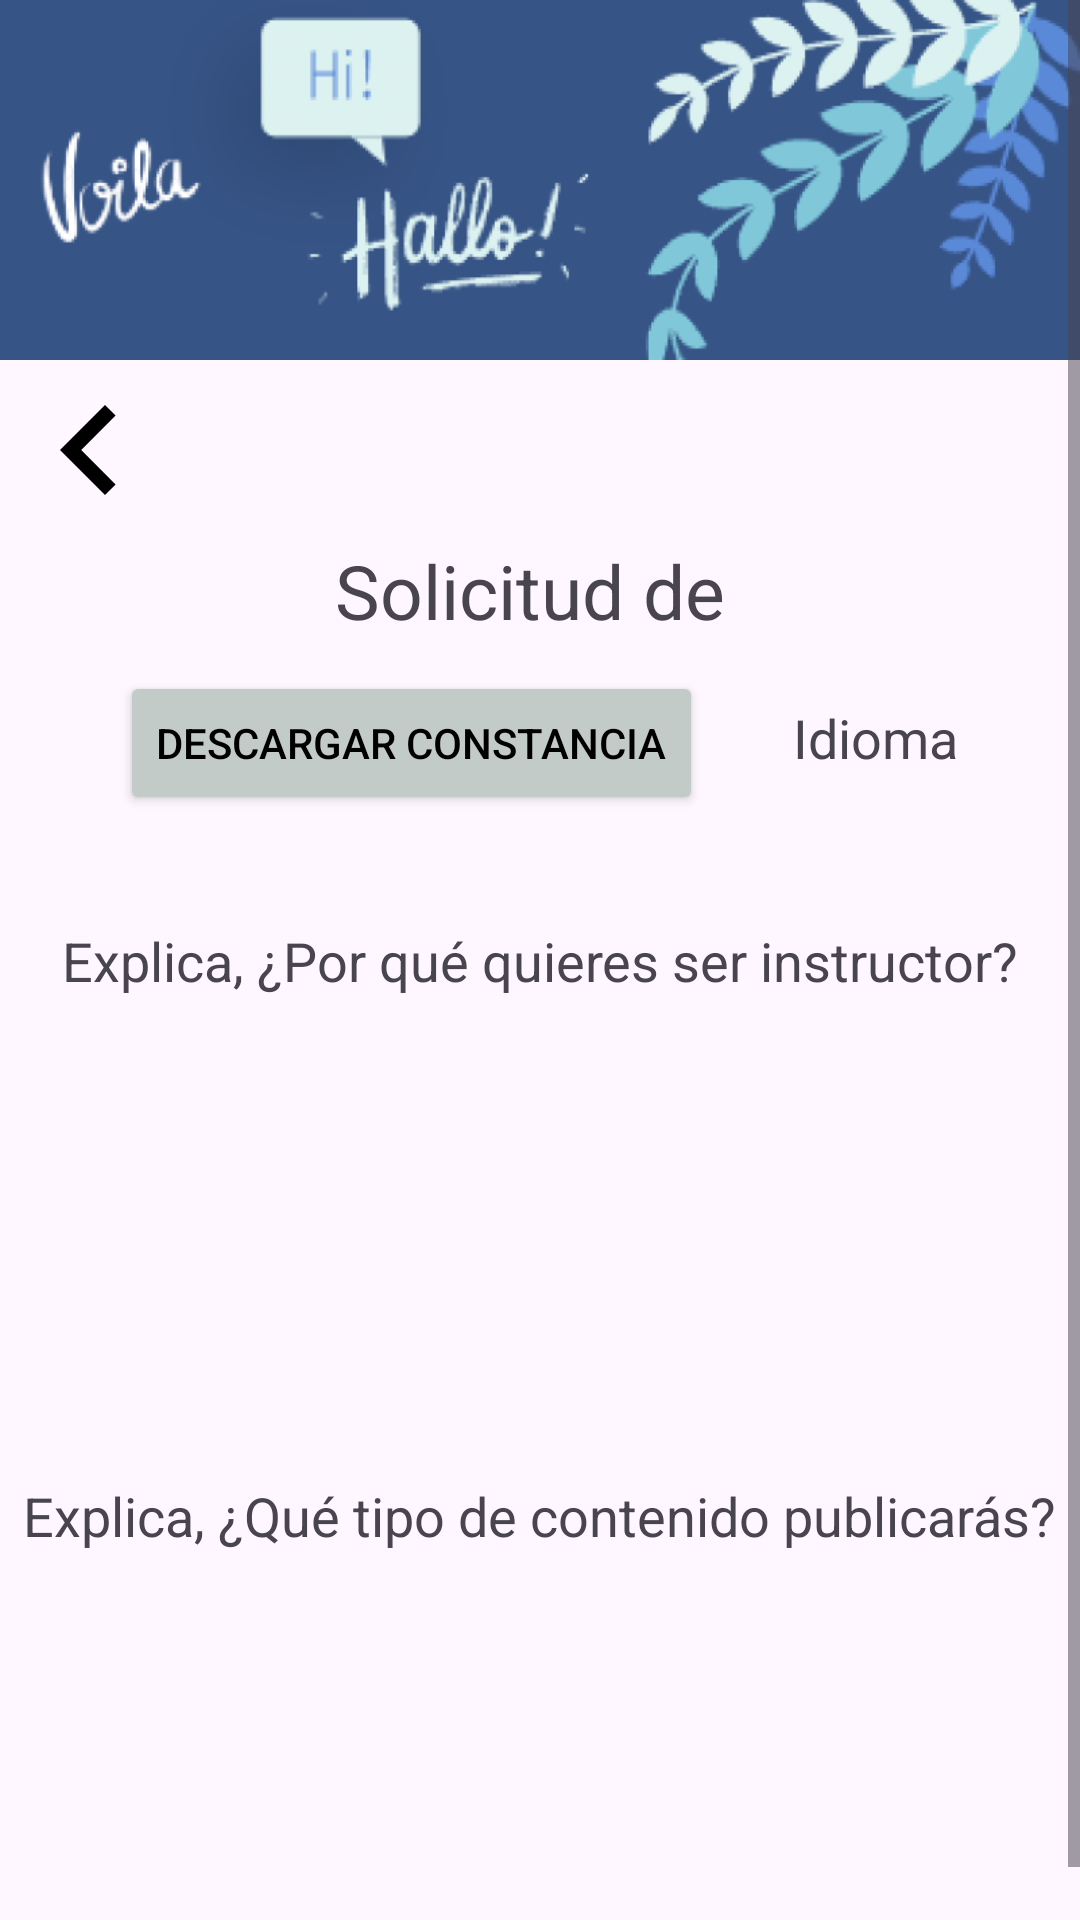

Named icons in this screenshot (1080w x 1920h) and their bounding boxes, bbox=(x1, y1, x2, y2):
chevron left: bbox=(60, 405, 116, 495)
